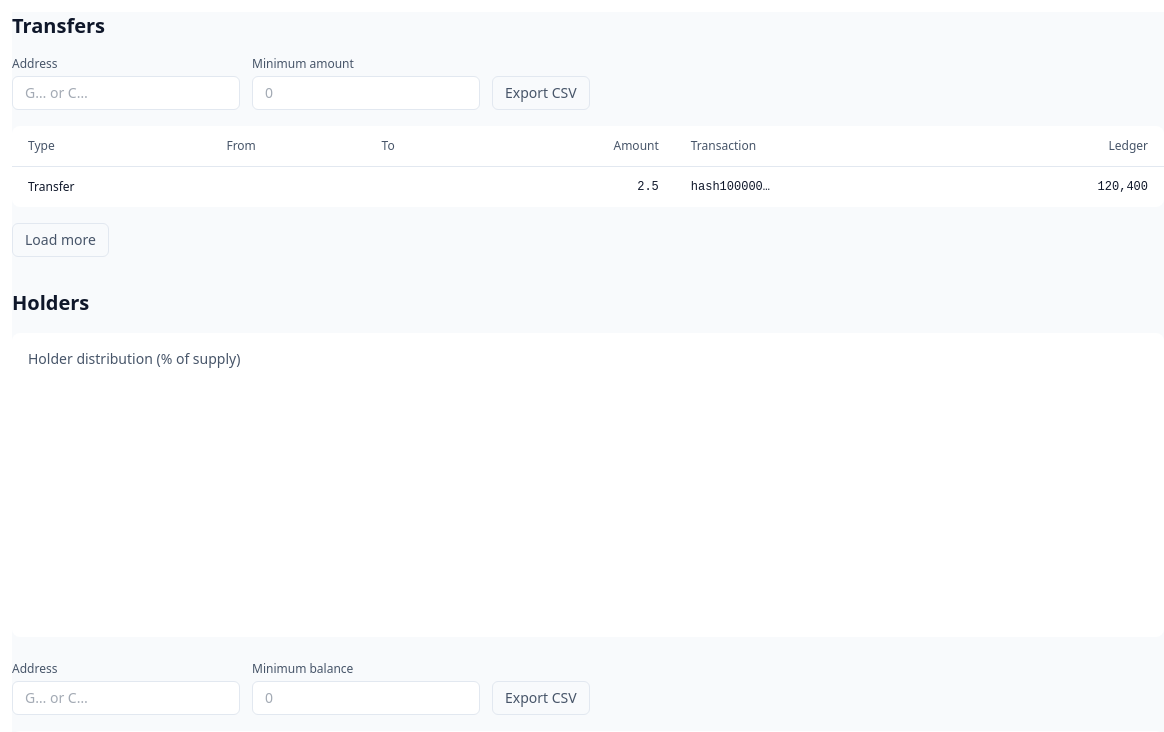
it: ContractTokensPanel › paginates with the returned cursor
Expected: the text "2.5" is shown, [480,166,675,207]
Click the button "Load more": click(60, 240) [12,223,109,257]
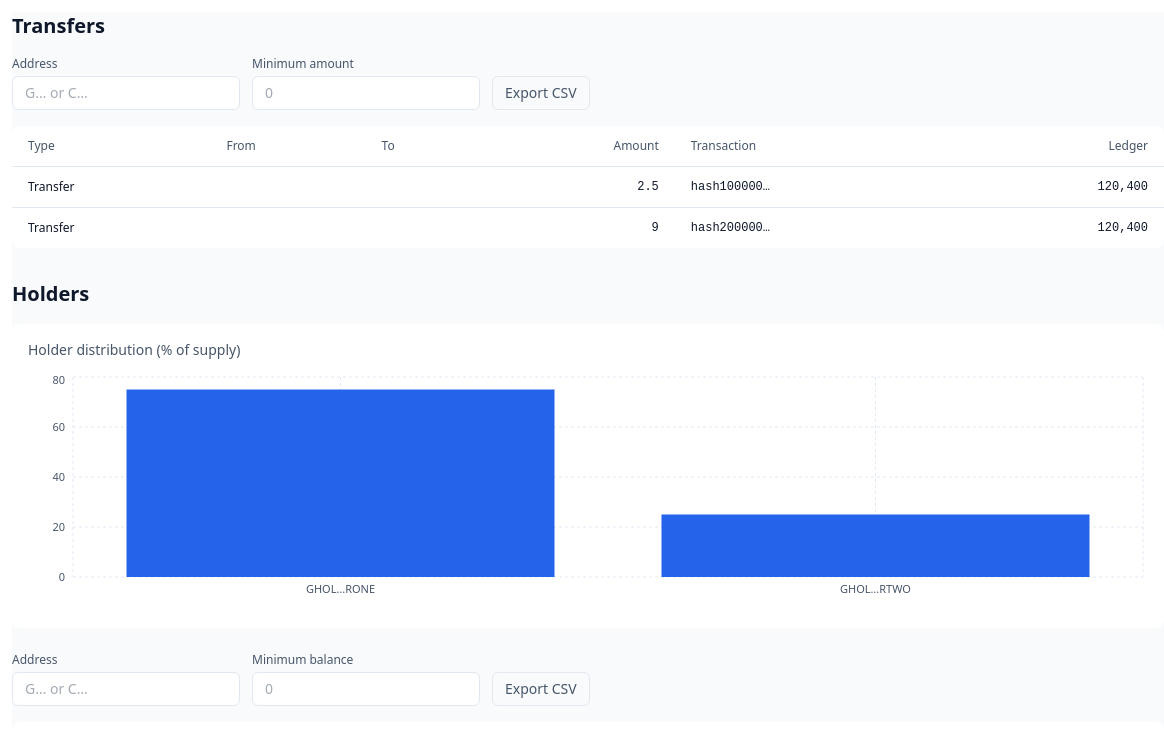
Expected: the text "9" is shown, [480,208,675,248]
Expected: the button "Load more" is gone
